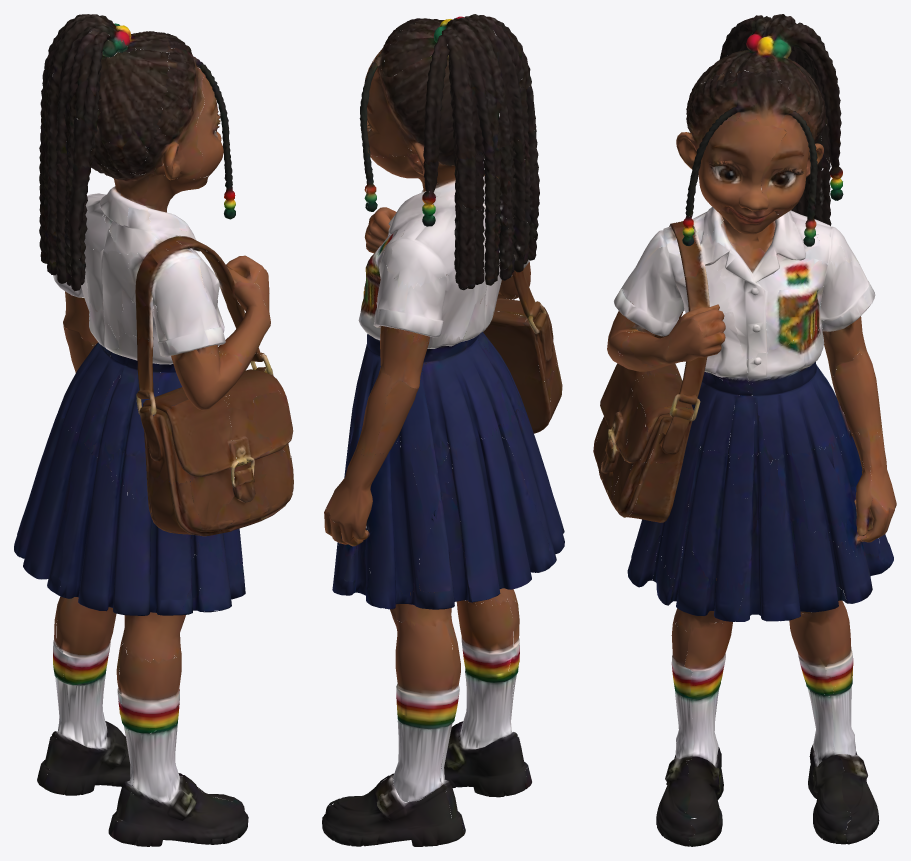
Rendered from youth_female_mascot.glb.
3 renders of one model, left to right at view 1: azimuth 30°, elevation 25°; view 2: azimuth 150°, elevation 25°; view 3: azimuth 270°, elevation 25°, orthographic. The views are drawn at different scales.
Parts seen in each view (by area): view 1: tripo_node_e26b4138-751e-4cf8-9a49-7745f1e31cff; view 2: tripo_node_e26b4138-751e-4cf8-9a49-7745f1e31cff; view 3: tripo_node_e26b4138-751e-4cf8-9a49-7745f1e31cff.
Part boxes in pixels (x1,y1,x2,y2): tripo_node_e26b4138-751e-4cf8-9a49-7745f1e31cff: (14,14,293,846); tripo_node_e26b4138-751e-4cf8-9a49-7745f1e31cff: (322,14,564,846); tripo_node_e26b4138-751e-4cf8-9a49-7745f1e31cff: (593,14,896,846).
Size of the model in its own units: 0.2544 by 0.9807 by 0.3449.
Materials: 1 (1 with a texture image).
